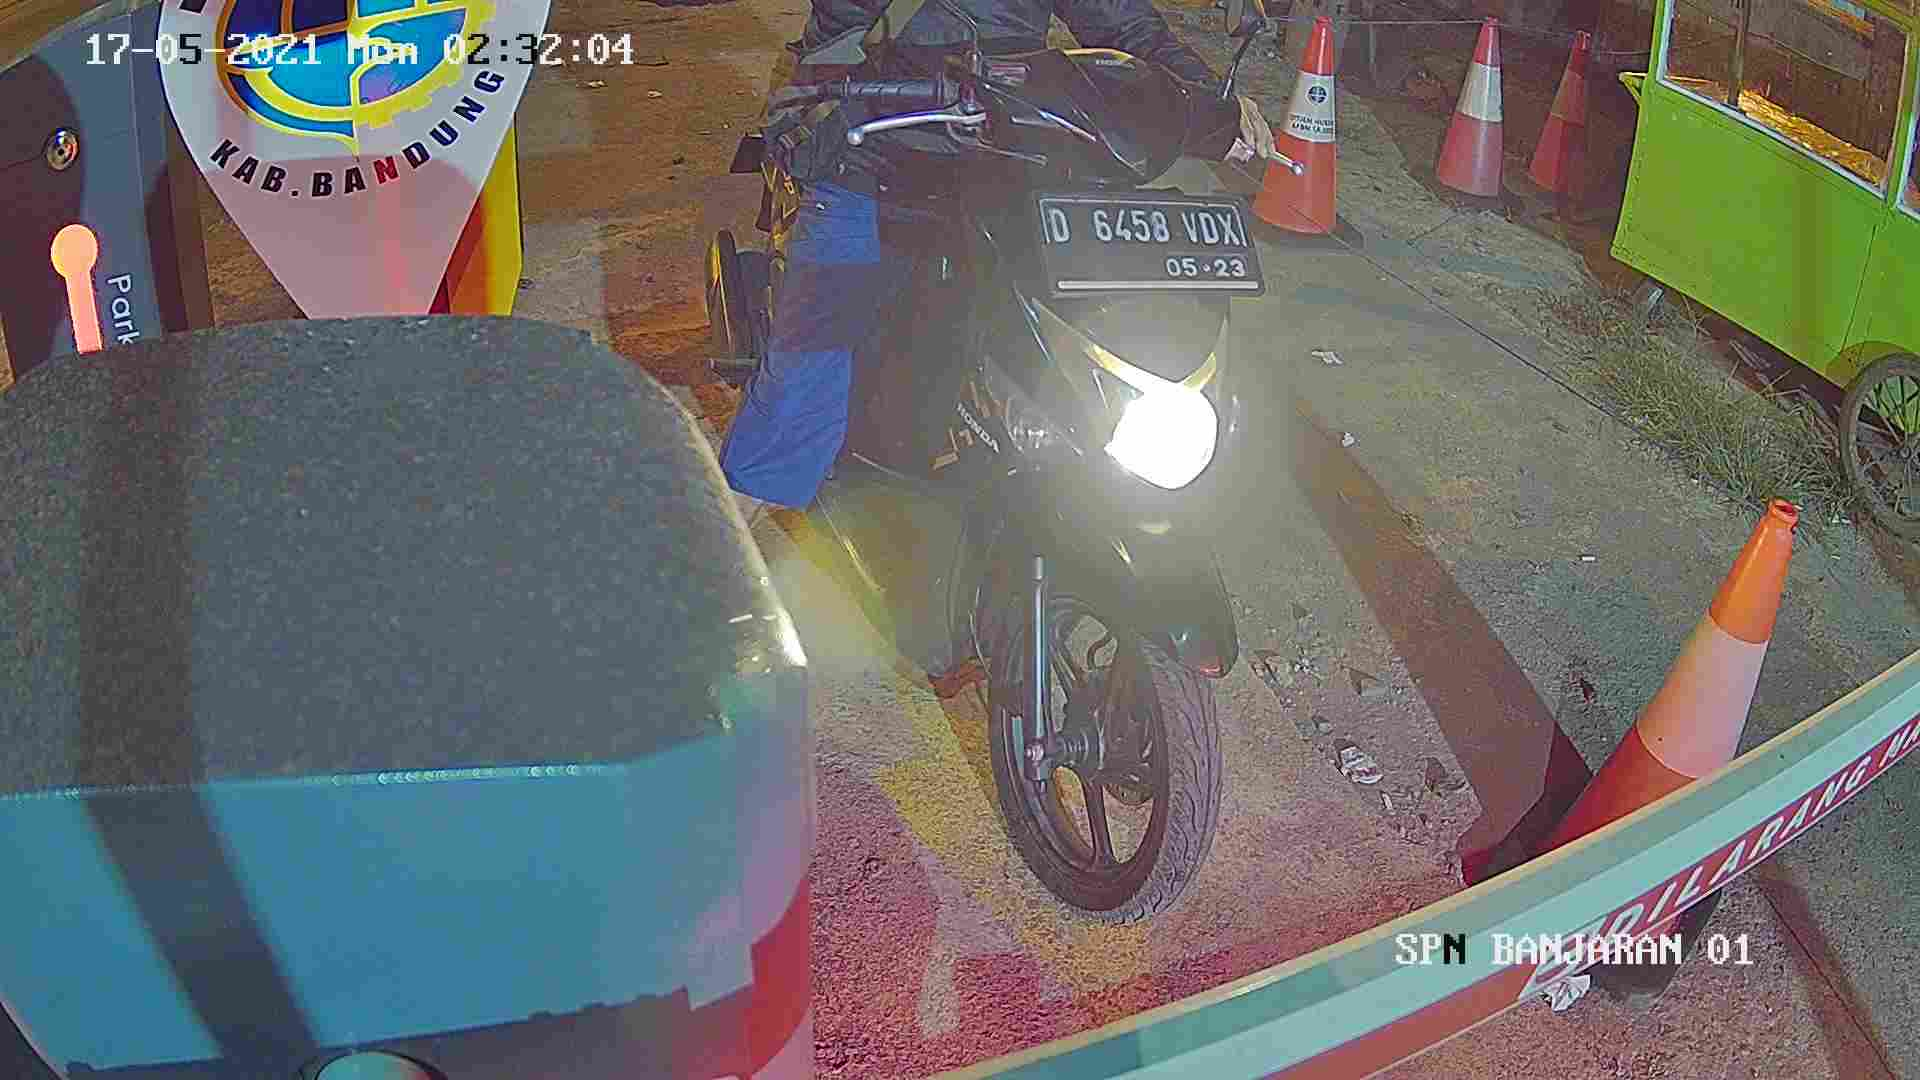motor: (835, 55, 1316, 926)
